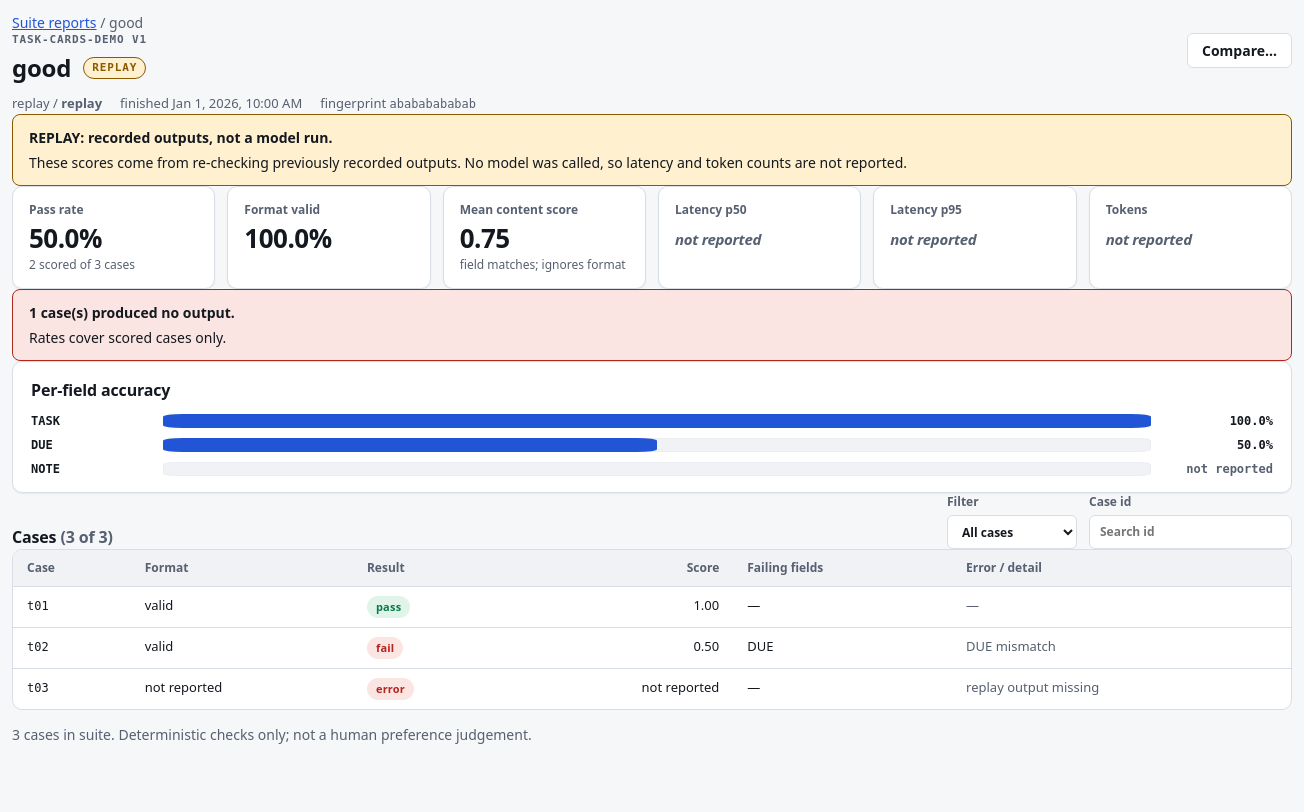
pages › filters the case table
This screenshot has width=1304, height=812.
expect the text "t01" is shown: met, box [27,599,49,613]
Select "Failed" in the dropdown labelled "Filter" at x=1012, y=532, box [947,515,1077,549]
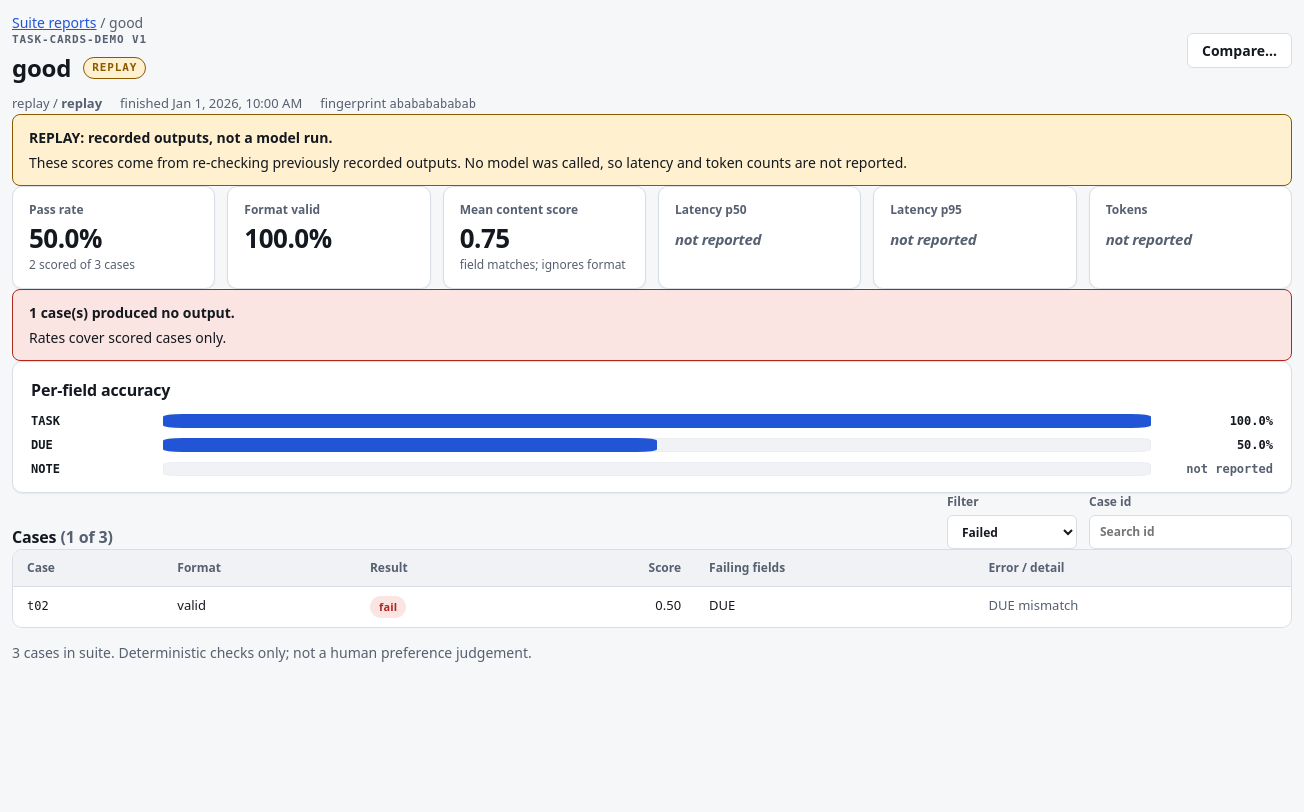
expect the text "t02" is shown: met, box [27,599,49,613]
expect the text "t01" is gone: met
Select "Errors" in the dropdown labelled "Filter" at x=1012, y=532, box [947,515,1077,549]
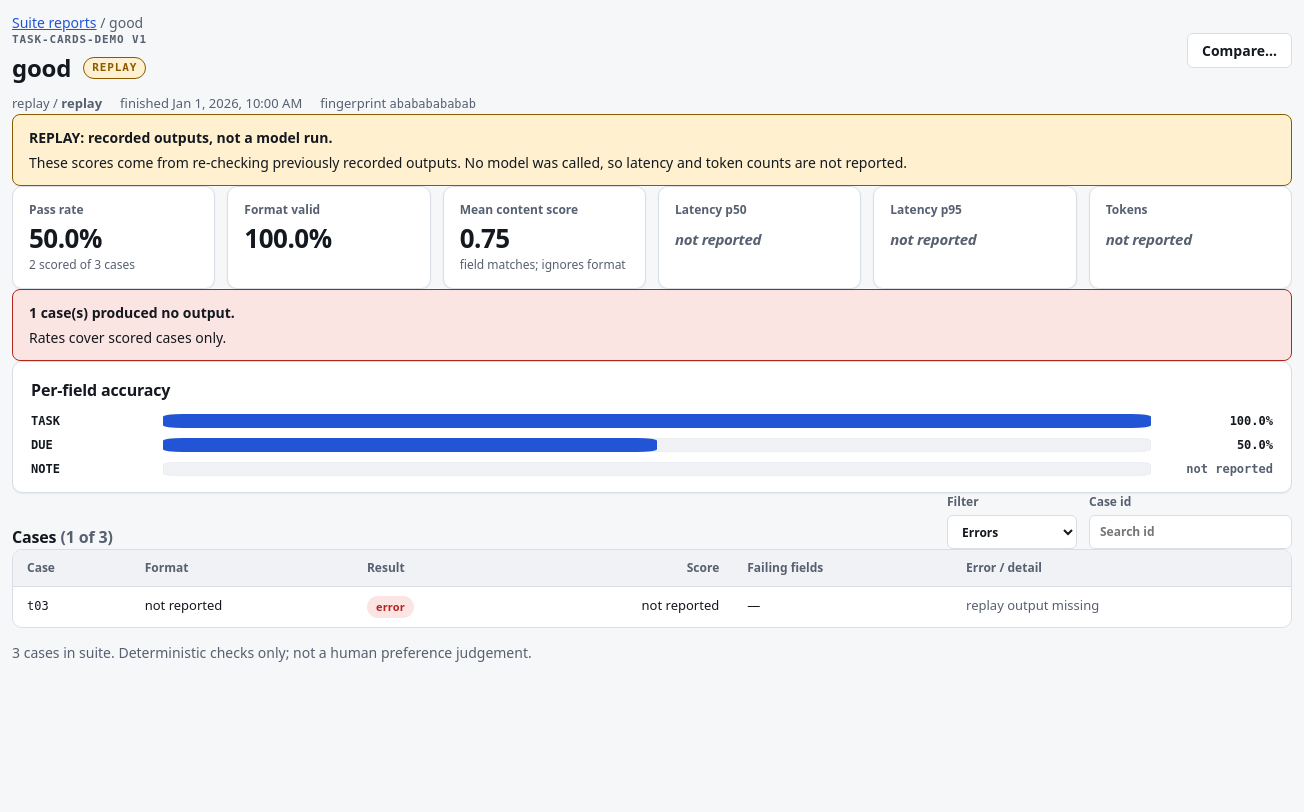
expect the text "replay output missing" is shown: met, box [952,587,1291,627]
